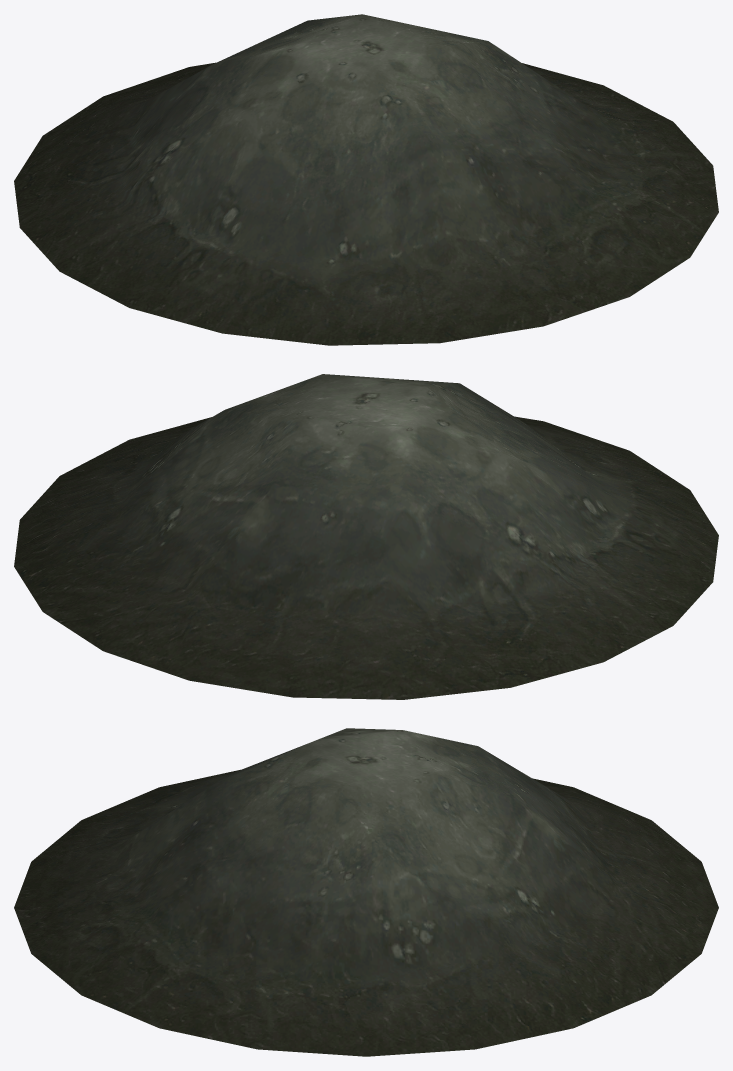
File: stemple_footer_03.fbx
3 renders of one model, top to bottom at view 1: azimuth 30°, elevation 25°; view 2: azimuth 150°, elevation 25°; view 3: azimuth 270°, elevation 25°, orthographic.
Visible parts, largest first — view 1: sunken_tileset/sunken_rock02_mat; view 2: sunken_tileset/sunken_rock02_mat; view 3: sunken_tileset/sunken_rock02_mat.
Part boxes in pixels (x1,y1,x2,y2): sunken_tileset/sunken_rock02_mat: (14, 14, 718, 345); sunken_tileset/sunken_rock02_mat: (14, 374, 718, 699); sunken_tileset/sunken_rock02_mat: (14, 728, 718, 1056).
Size of the model in its own units: 15 by 3.54 by 15.
